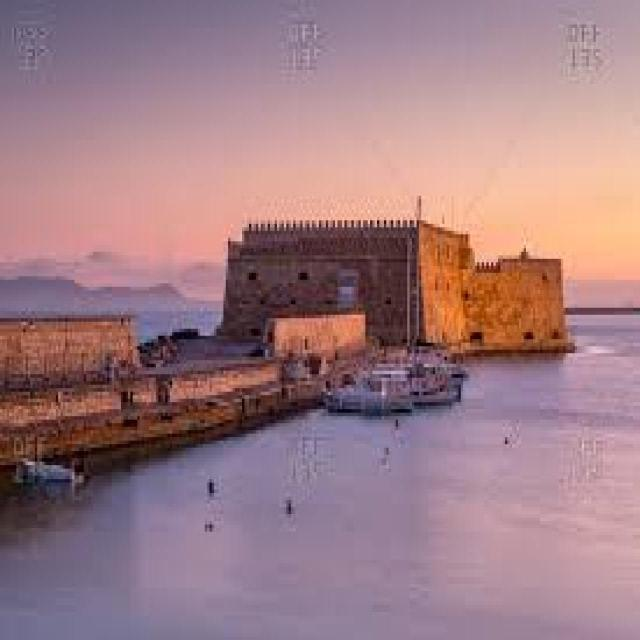Kules: (223, 199, 579, 358)
